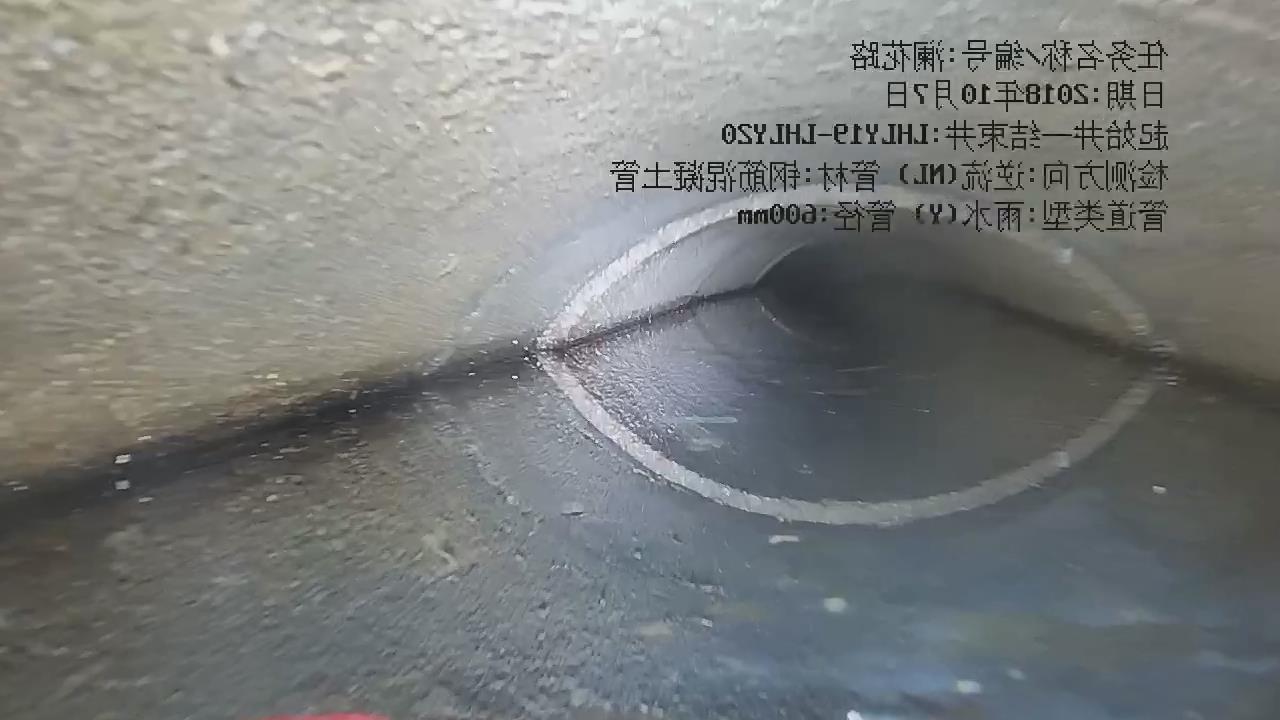CKTJ: (541, 185, 1174, 356)
